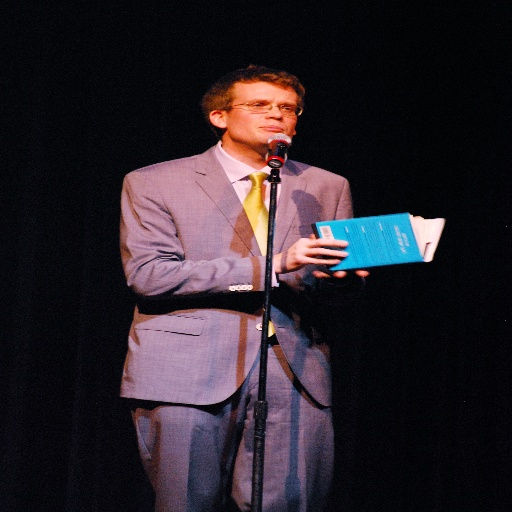hand: (277, 241, 355, 279), (310, 270, 369, 285)
